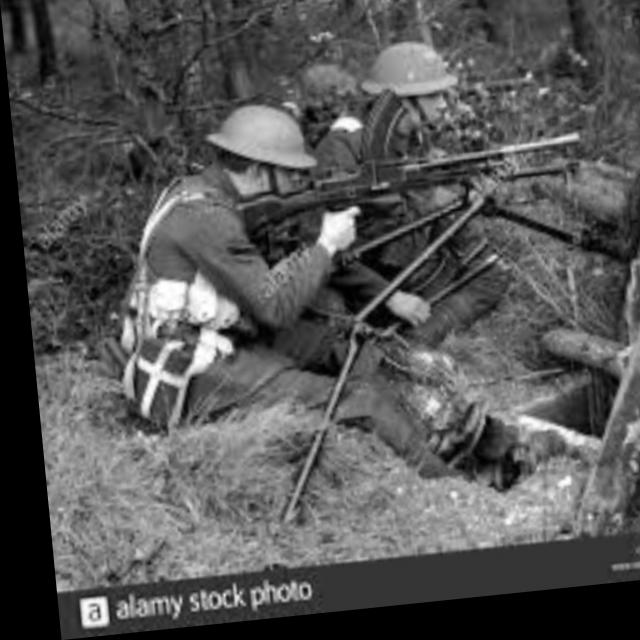other: (70, 95, 332, 452), (322, 32, 481, 317)
